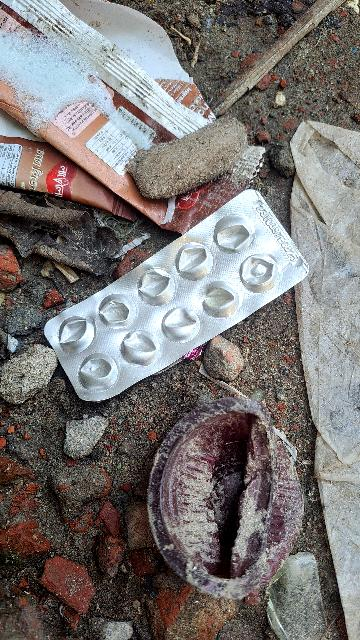medicine: (30, 170, 320, 414)
